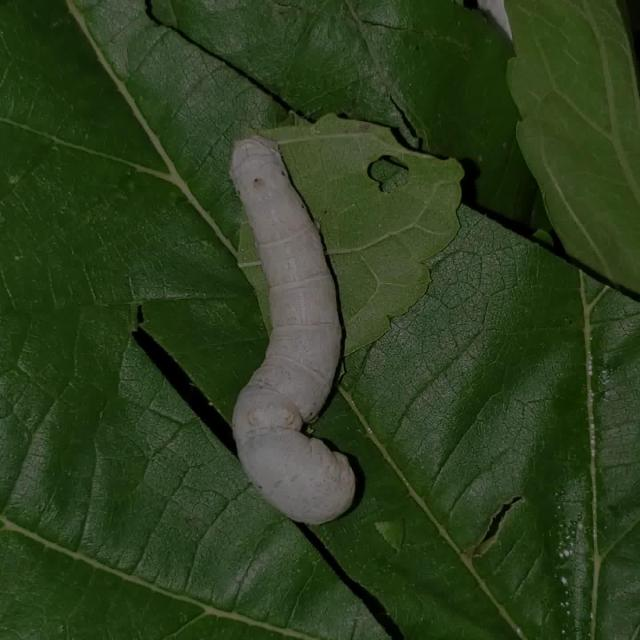Healthy: (194, 82, 412, 558)
